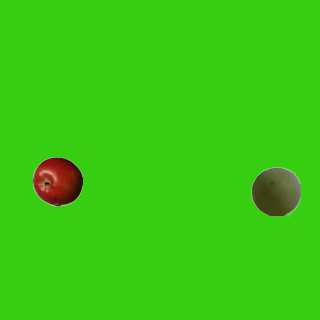Apple Braeburn: (32, 156, 82, 206)
Grape White 4: (250, 166, 300, 216)
